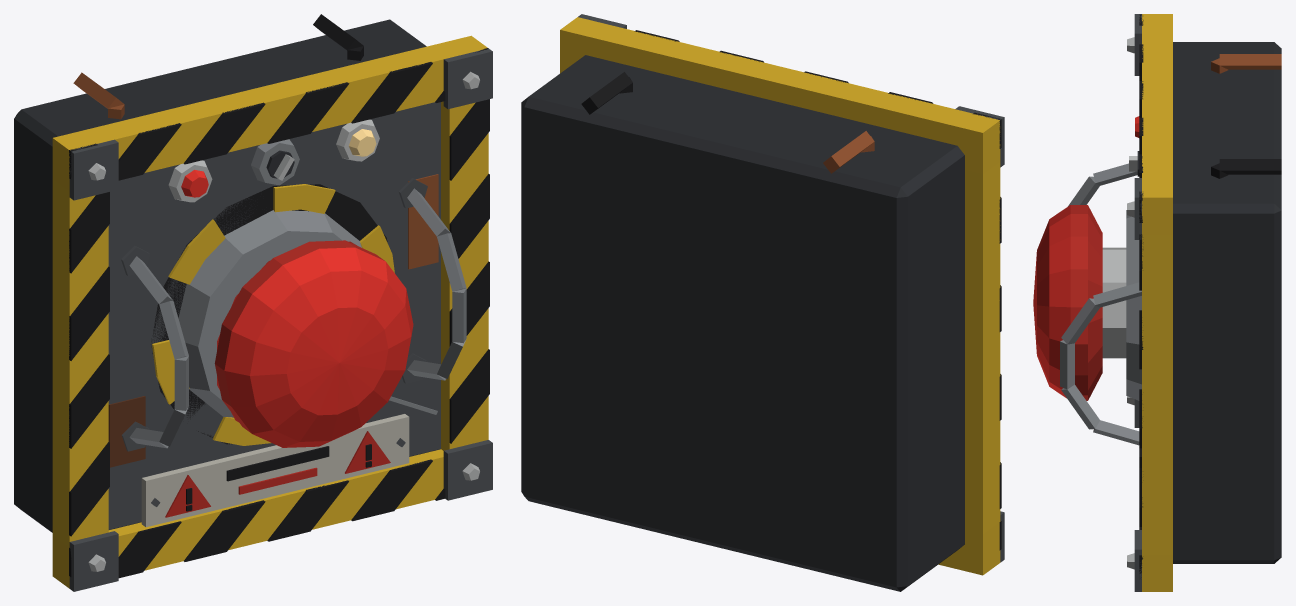
The model's file is apocalypse_button.fbx.
3 renders of one model, left to right at view 1: azimuth 30°, elevation 25°; view 2: azimuth 150°, elevation 25°; view 3: azimuth 270°, elevation 25°, orthographic. The views are drawn at different scales.
Visible parts, largest first — view 1: apocalypse_button; view 2: apocalypse_button; view 3: apocalypse_button.
Boxes of the visible parts, x1,y1,x2,y2 form: apocalypse_button: [14, 14, 492, 591]; apocalypse_button: [521, 14, 1004, 591]; apocalypse_button: [1033, 14, 1281, 591].
Size of the model in its own units: 0.7 by 0.7 by 0.4.
